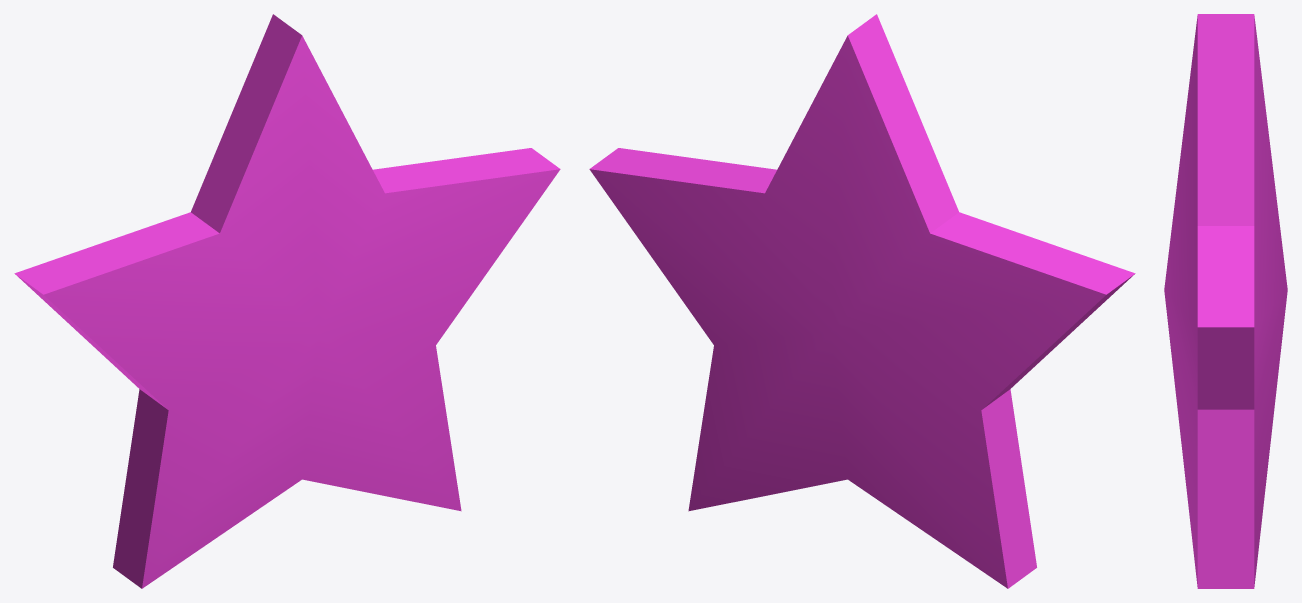
Rendered from 02 star.FBX.
The picture shows the model from 3 angles, left to right: view 1: azimuth 30°, elevation 25°; view 2: azimuth 150°, elevation 25°; view 3: azimuth 270°, elevation 25°; orthographic projection. The views are drawn at different scales.
Parts seen in each view (by area): view 1: SM_Icon_Star_01; view 2: SM_Icon_Star_01; view 3: SM_Icon_Star_01.
Boxes of the visible parts, left/top/right/bottom form: SM_Icon_Star_01: left=14, top=14, right=560, bottom=588; SM_Icon_Star_01: left=589, top=14, right=1135, bottom=588; SM_Icon_Star_01: left=1164, top=14, right=1287, bottom=588.
Bounding box in the file's own units: 51.23 × 48.74 × 10.92.
